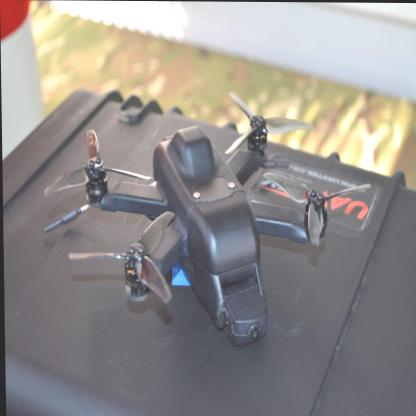UAS: (47, 89, 373, 344)
